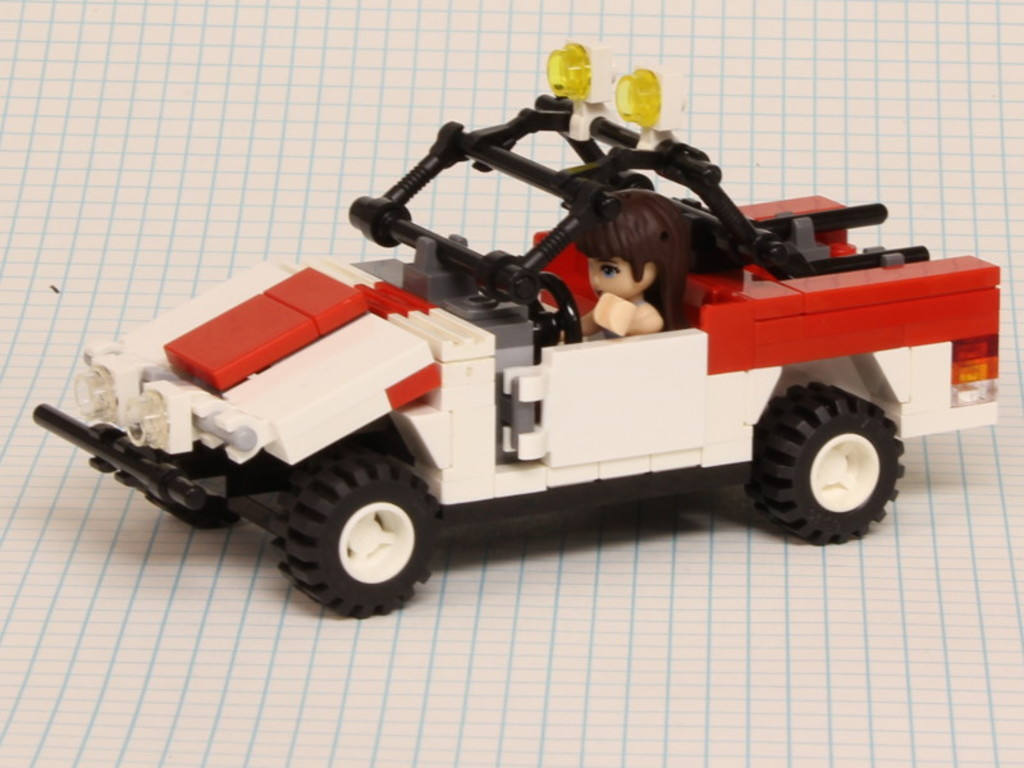Car: (33, 39, 1000, 618)
